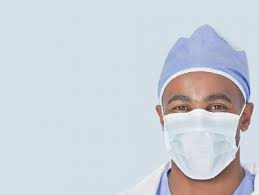mask: (165, 113, 237, 173)
